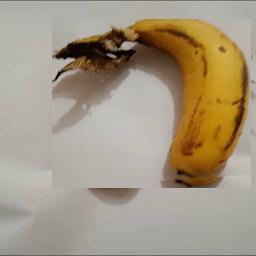Banana Semifresh: (52, 19, 251, 188)
